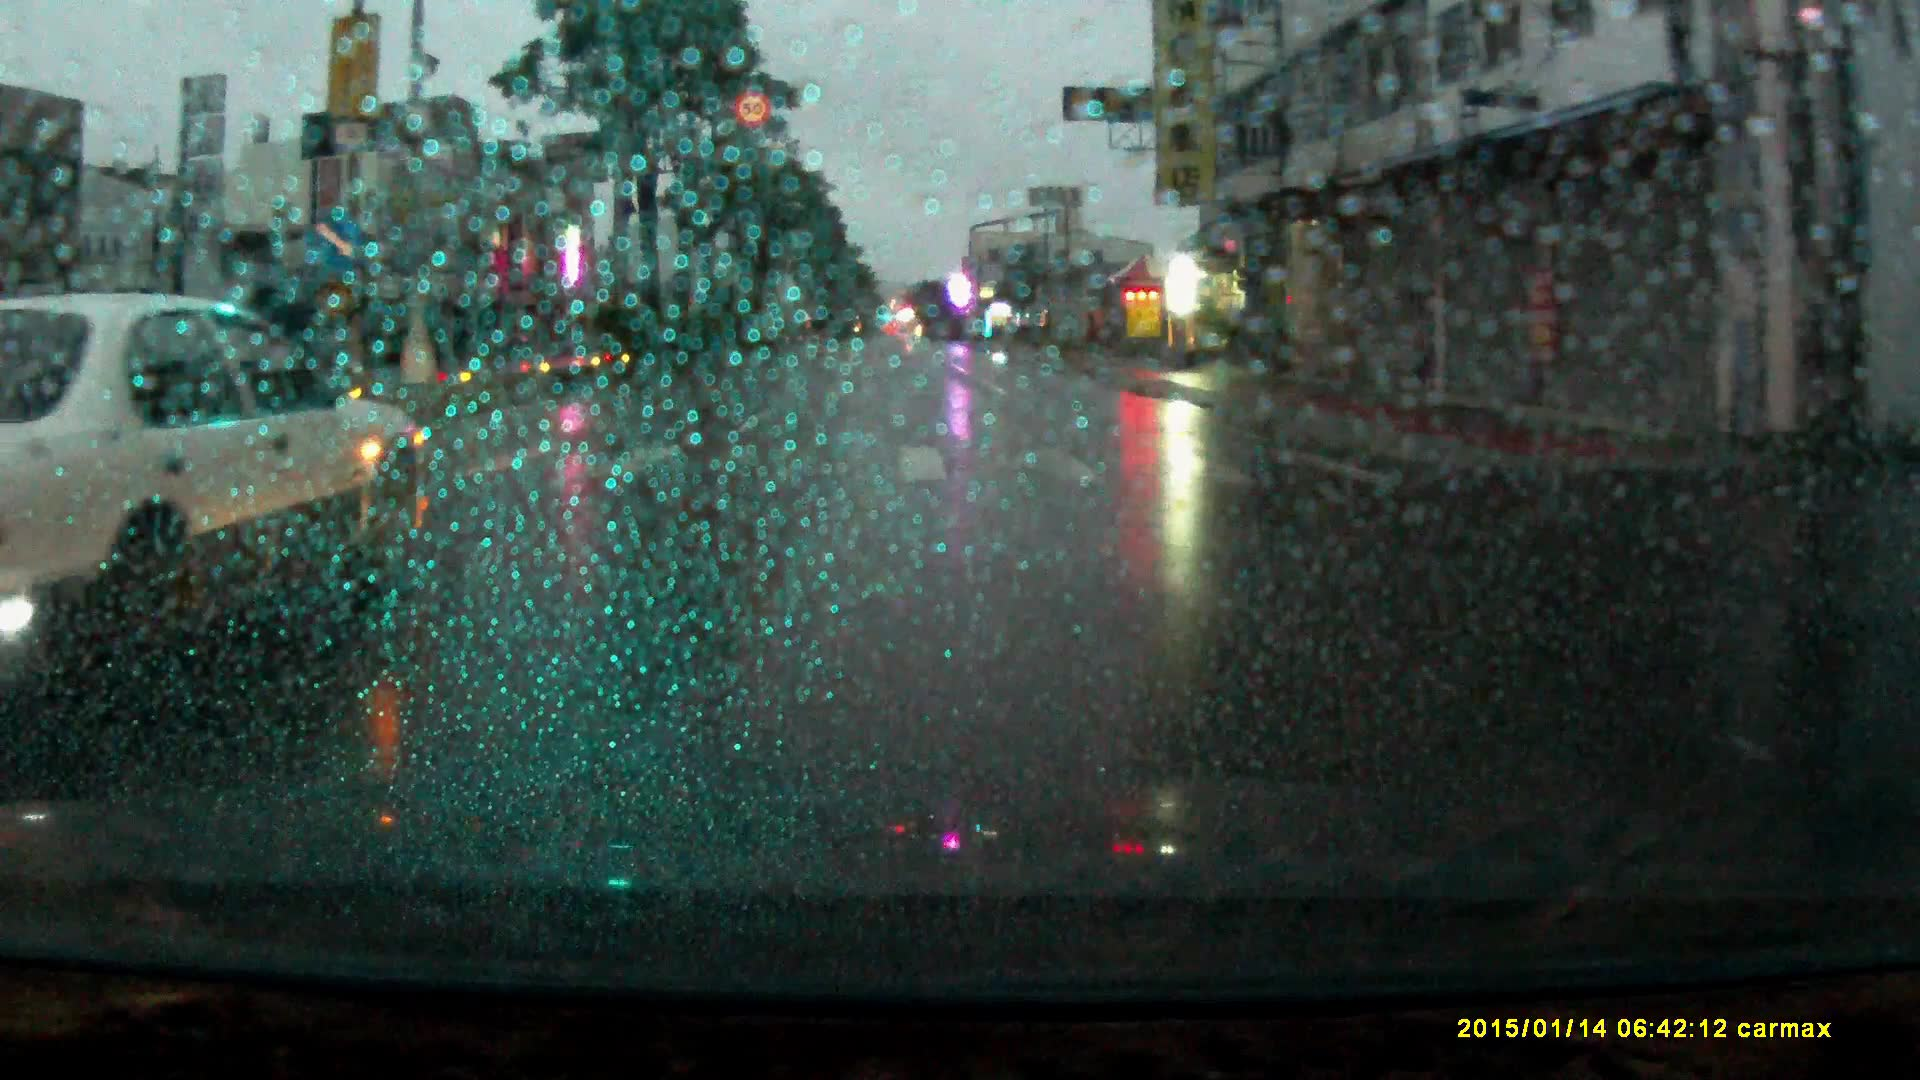vehicle: (1, 291, 439, 675)
